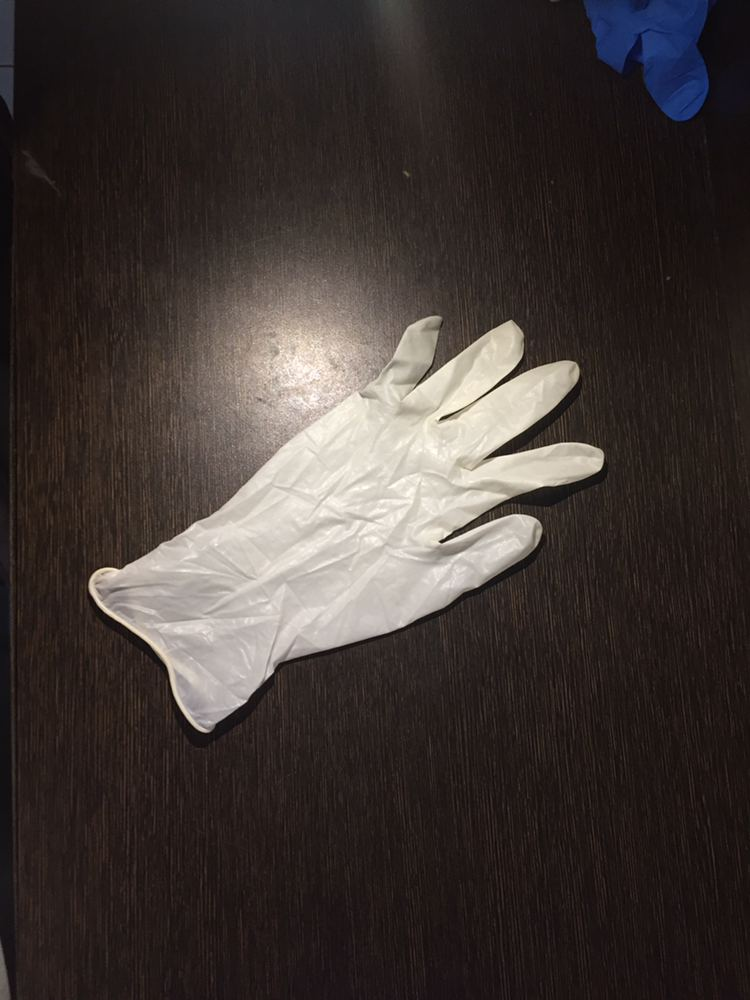glove: (67, 313, 610, 763)
